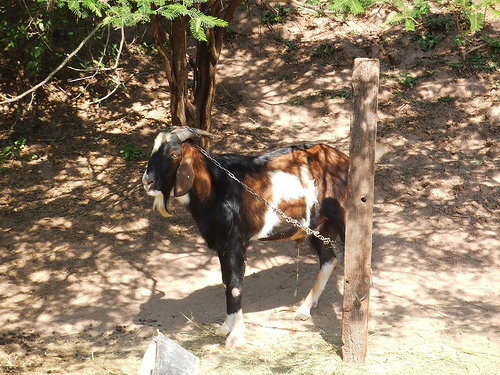goat: (141, 125, 348, 344)
